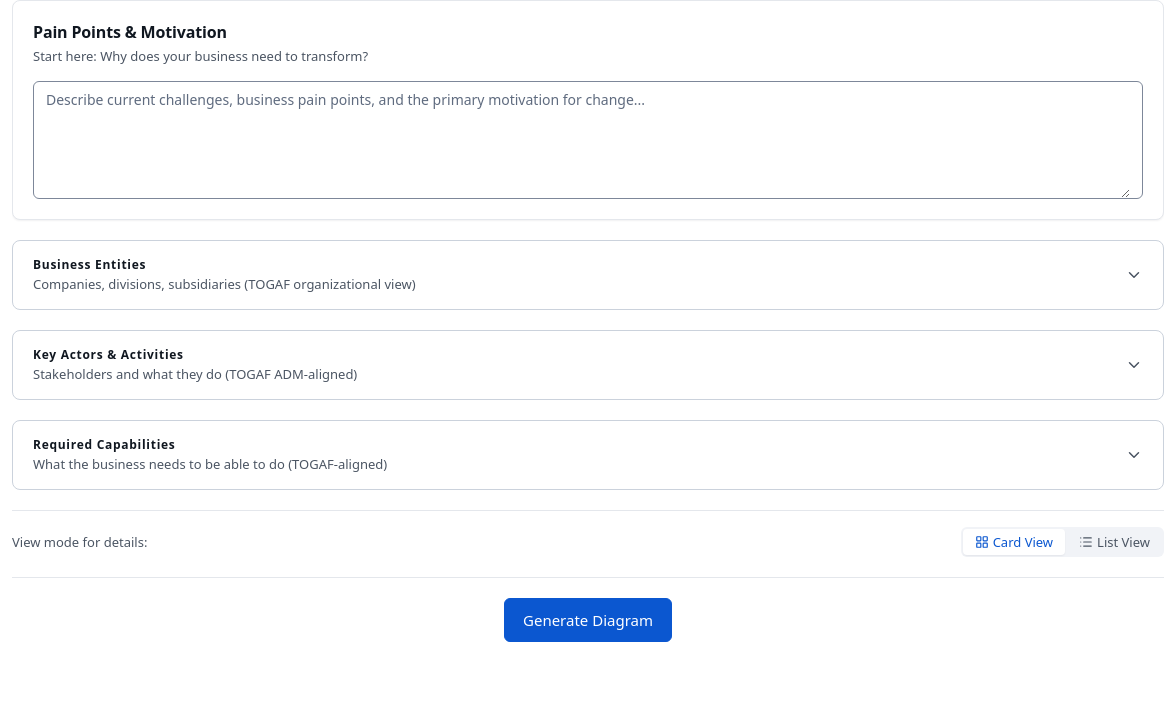
it: ARIA Labels - Icon-Only Buttons › BusinessContextTab › has aria-label on actor list view remove button
Click the radio button labelled "List View" at (1115, 542), box [1067,529,1162,555]
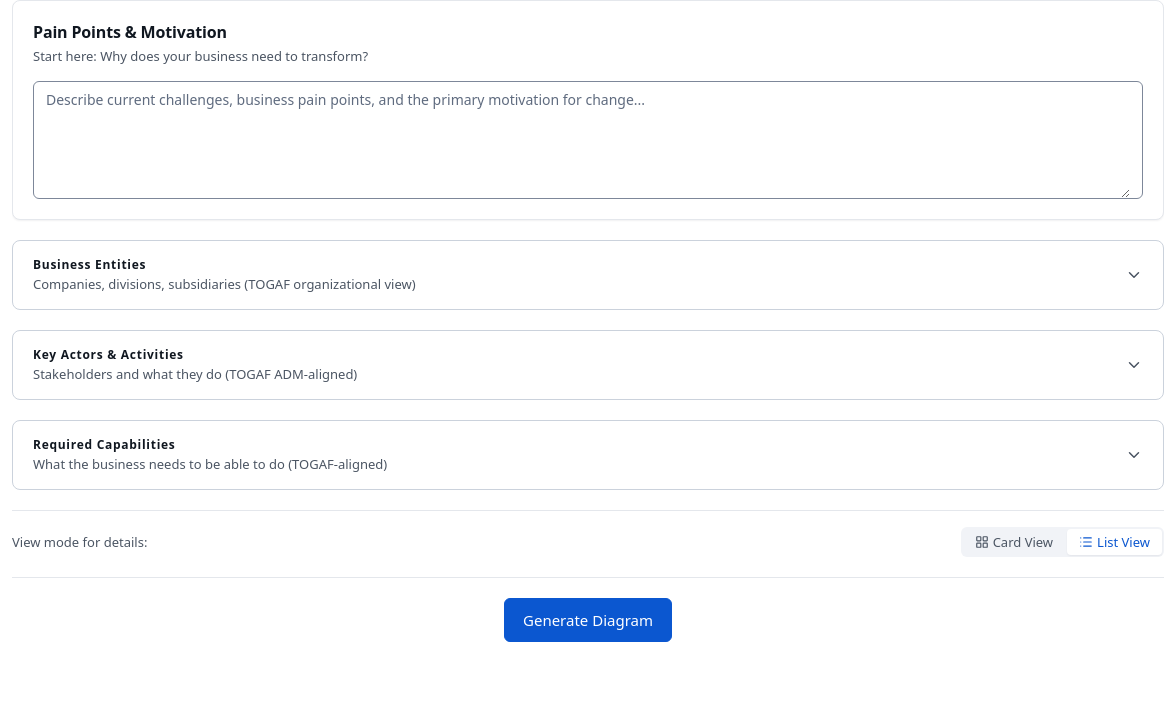
Click the button "Key Actors & Activities" at (108, 354), box [13,331,1163,399]
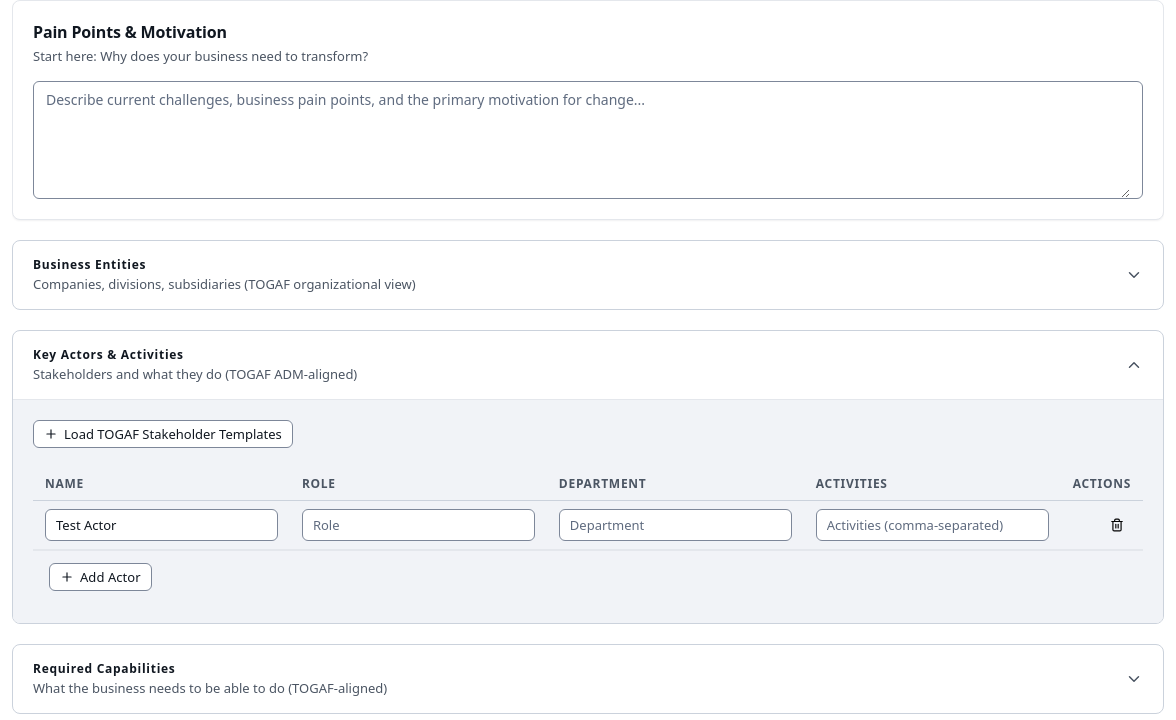
expect the button named "remove actor" is shown: met, box [1103,511,1131,539]
